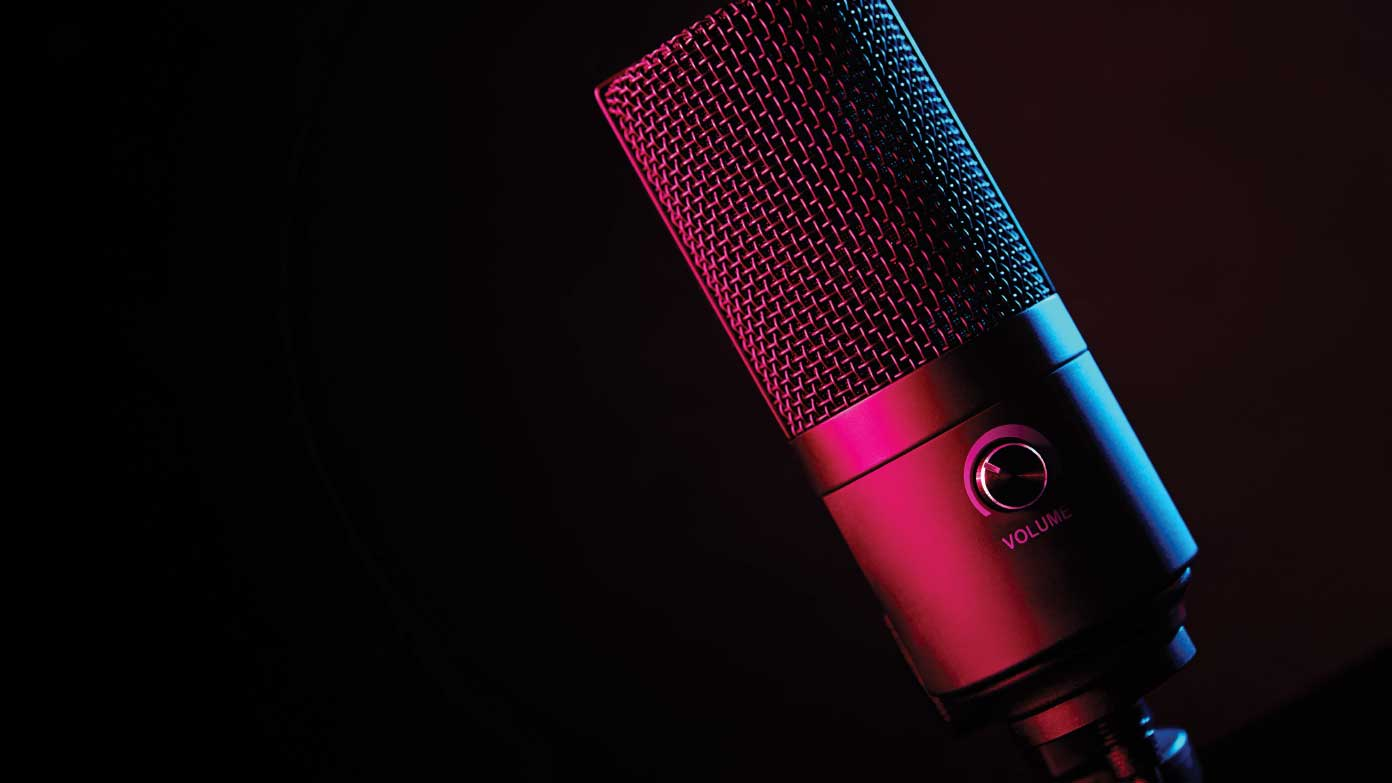microphone: (581, 9, 1205, 783)
